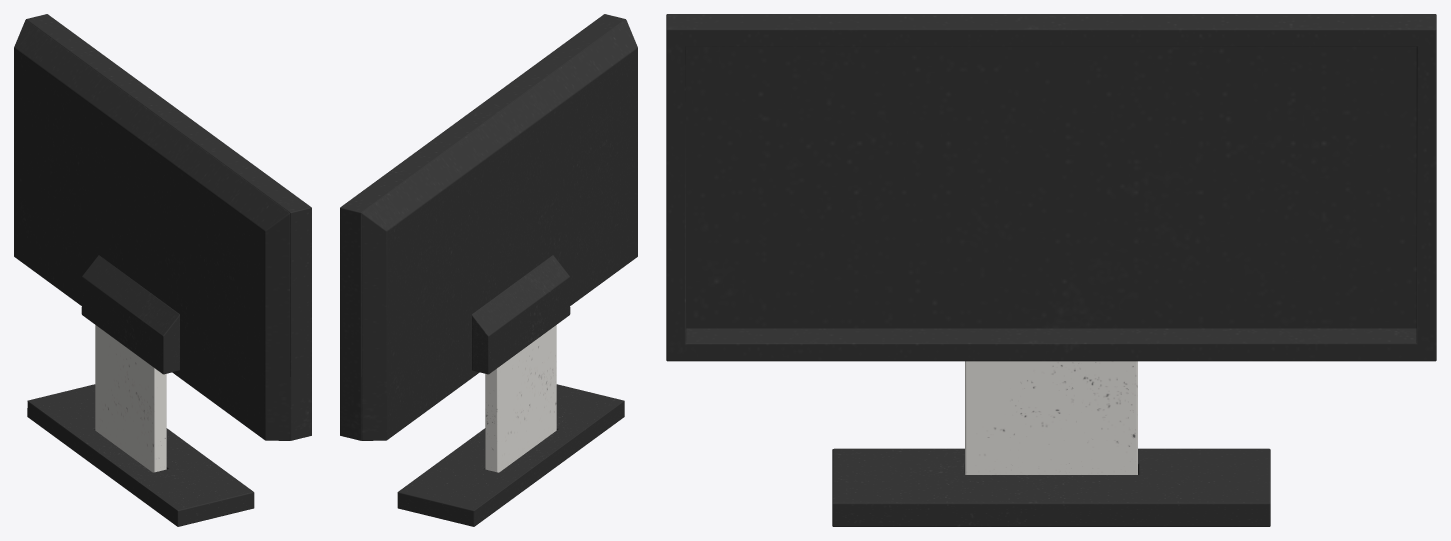
3 views of the same model, side by side, from view 1: azimuth 30°, elevation 25°; view 2: azimuth 150°, elevation 25°; view 3: azimuth 270°, elevation 25° (orthographic). The views are drawn at different scales.
Visible parts, largest first — view 1: tv; view 2: tv; view 3: tv.
Boxes of the visible parts, box(x1,y1,x2,y2) form: tv: box(14, 14, 311, 526); tv: box(340, 14, 637, 526); tv: box(666, 14, 1436, 526).
Size of the model in its own units: 0.7101 by 3 by 4.2.
Materials: 2 (2 with a texture image).
